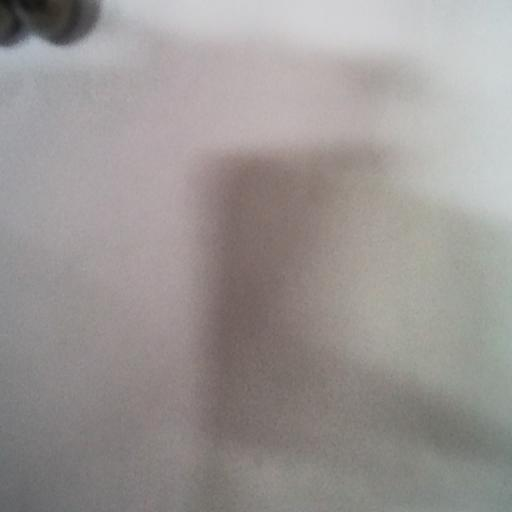steel-ball: (0, 0, 97, 65)
